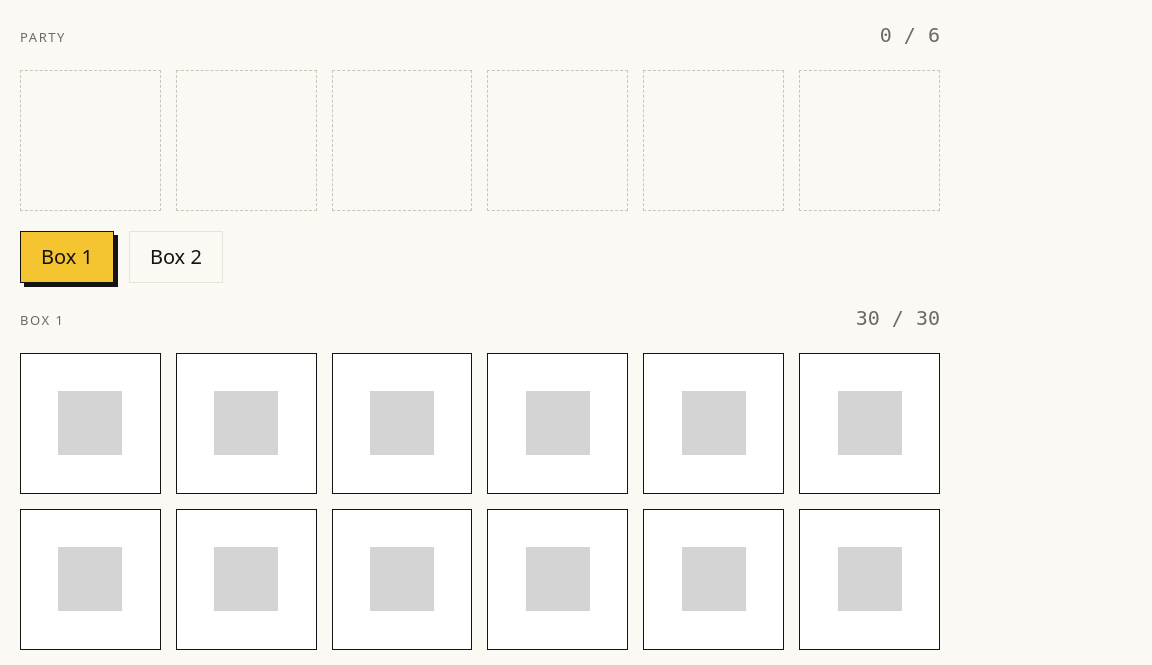
it: BoxGrid › adds a second box once the first is full and shows its mons on switching
Check: the text "30 / 30" is shown, box [856,303,940,333]
Click the button "Box 2" at [176, 257], box [129,231,223,283]
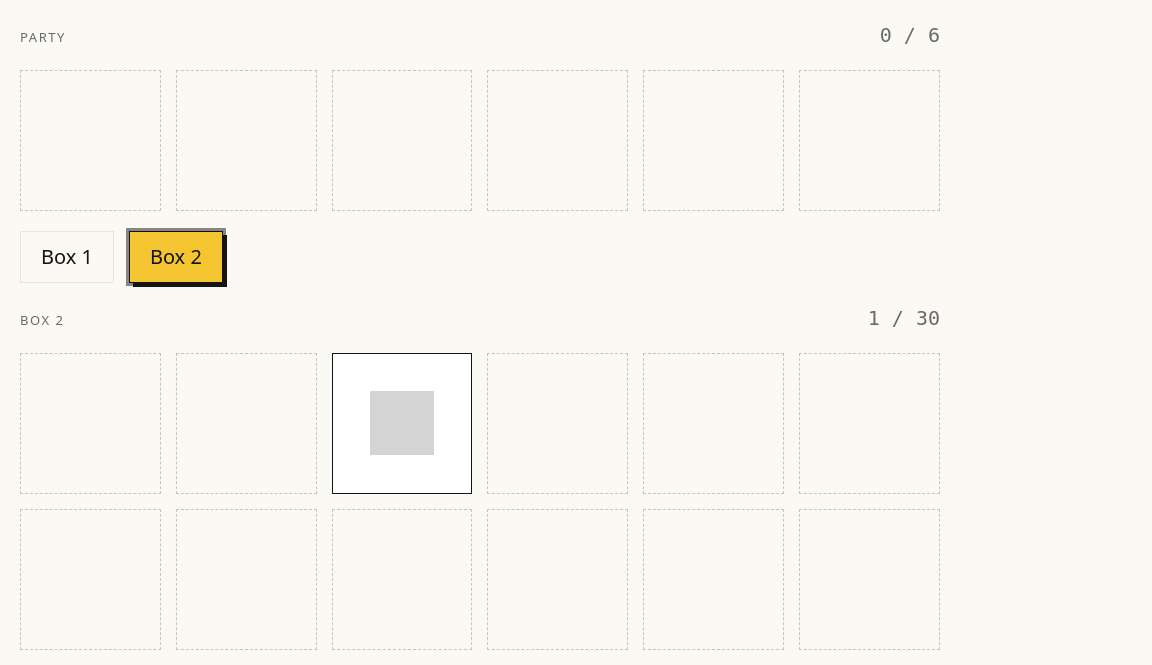
Check: the text "1 / 30" is shown, box [868,303,940,333]
